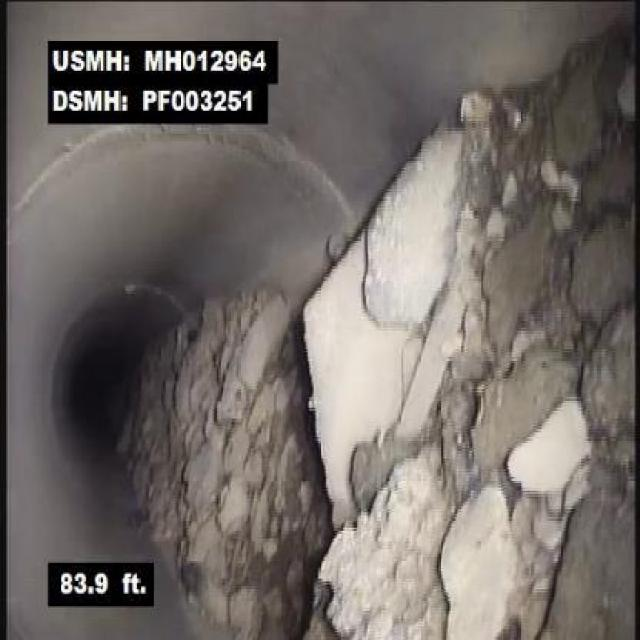Obstacle: (294, 86, 640, 639), (177, 282, 292, 638)
